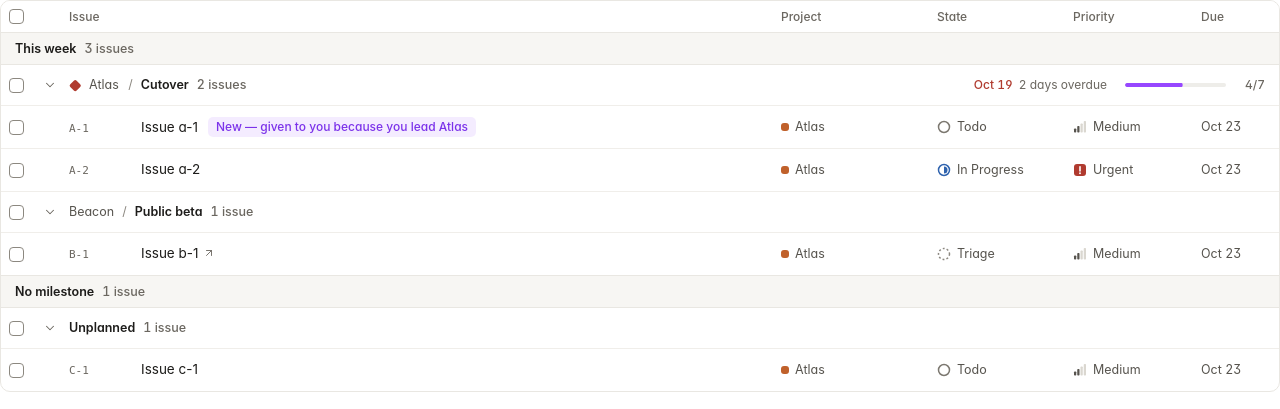
Test: TaskGroupTable selection › a row checkbox toggles, and the row takes the selected state
The image size is (1280, 409).
Later steps or results of the test are not shown.
Click the checkbox named "Select A-1" at (16, 127), box [8,113,24,141]
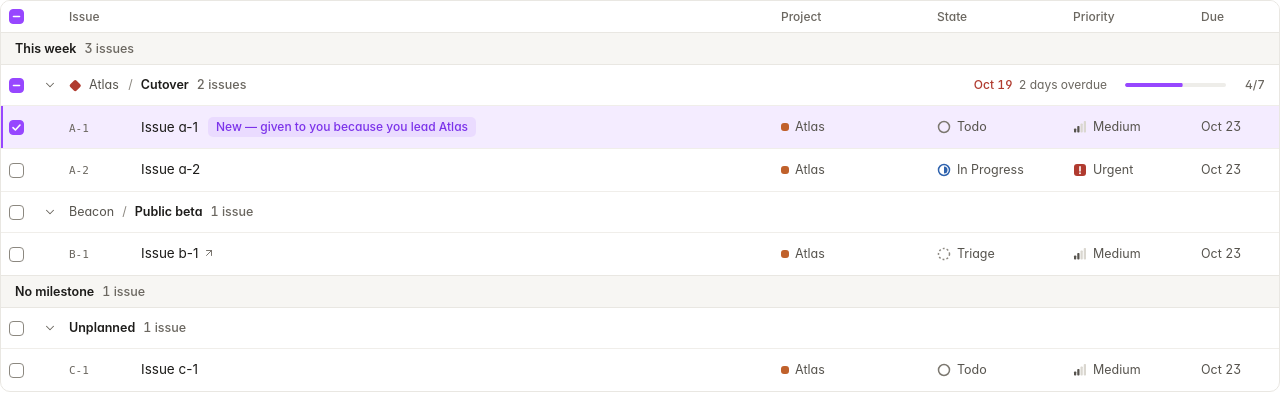
Expected: the checkbox named "Select A-1" is checked, [8,113,24,141]
